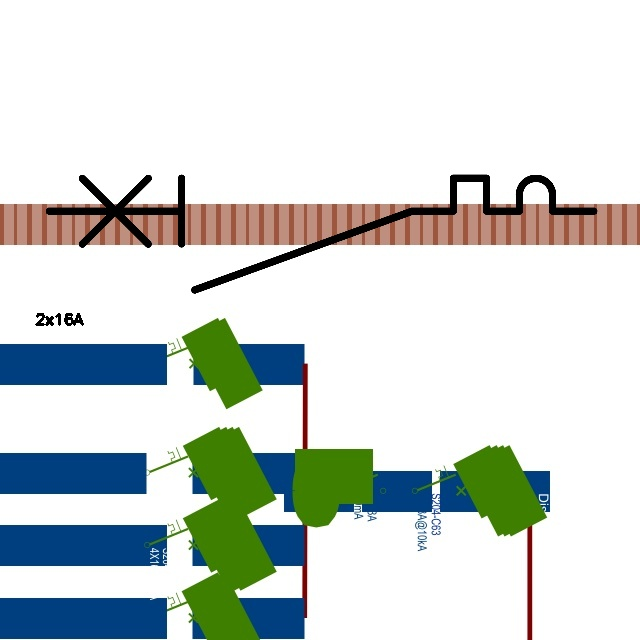interruptor_termomagnetico: (35, 164, 608, 304)
